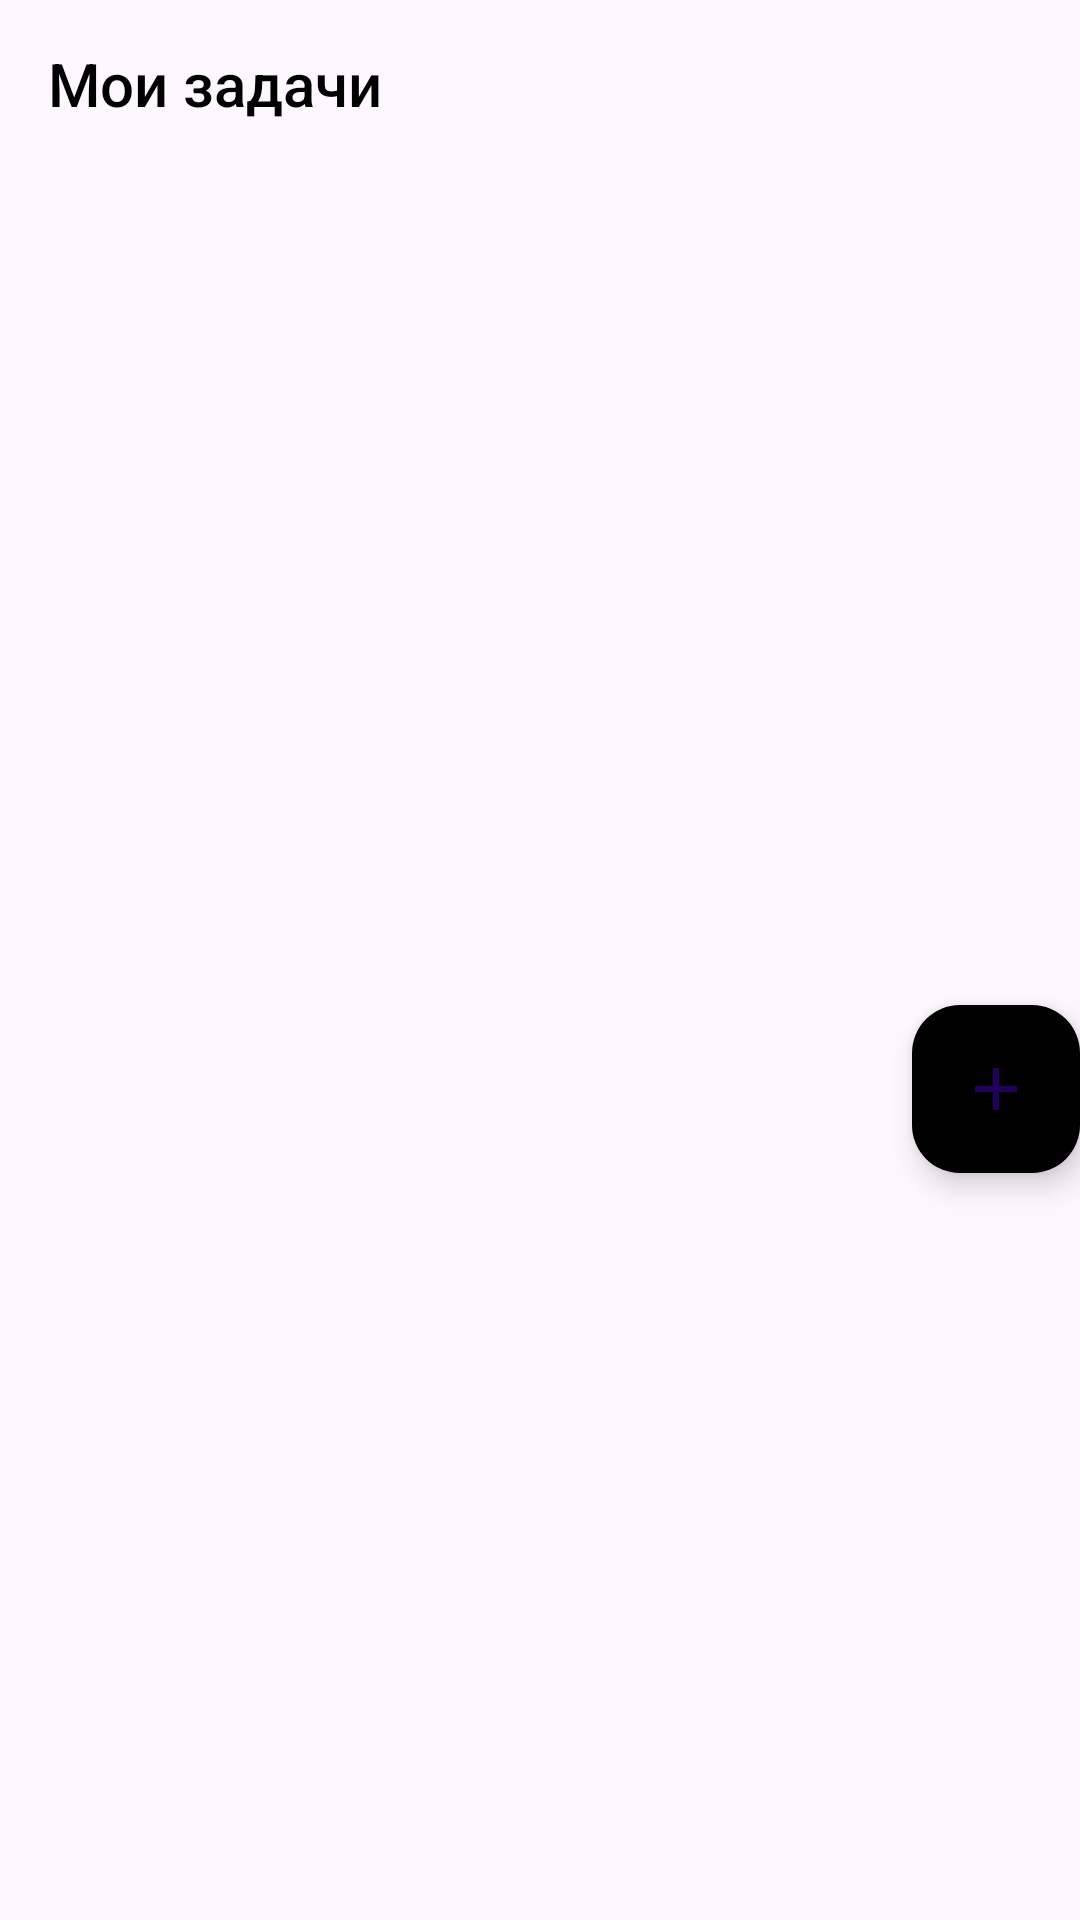

Icon bounding boxes for this 1080w x 1920h phone screenshot, format {"x1": x1, "y1": y1, "x2": x2, "y2": y2}:
add: {"x1": 912, "y1": 1005, "x2": 1080, "y2": 1173}
